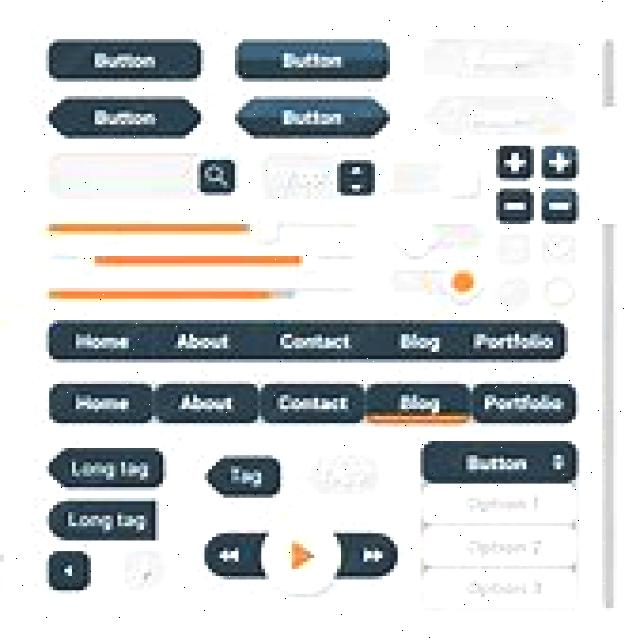button: (232, 35, 391, 83), (44, 96, 207, 140), (234, 96, 394, 140), (422, 36, 574, 81), (46, 38, 203, 80), (420, 95, 578, 136), (263, 518, 343, 596), (44, 442, 167, 491), (44, 496, 164, 539), (258, 379, 366, 425), (470, 379, 578, 425), (364, 379, 471, 425), (153, 379, 260, 423), (45, 381, 154, 424), (202, 447, 283, 501), (332, 525, 399, 585), (304, 451, 383, 498), (205, 529, 270, 584), (125, 540, 173, 586), (47, 548, 92, 592), (538, 184, 582, 227), (493, 140, 537, 182), (493, 186, 535, 226), (537, 144, 581, 181), (201, 154, 237, 199)
checkbox: (495, 230, 535, 267), (539, 230, 578, 266)
dropdownMenu: (418, 435, 582, 613)
input: (42, 152, 196, 200)
menu: (47, 316, 570, 362)
menuItem: (458, 572, 549, 605), (455, 486, 545, 518), (463, 529, 546, 560)
radio: (536, 272, 579, 309), (492, 273, 532, 309)
slider: (597, 32, 623, 613), (44, 215, 360, 244), (41, 248, 360, 276), (44, 282, 366, 308)
switch: (389, 156, 483, 202), (392, 215, 484, 260), (385, 267, 485, 305)
upDown: (262, 157, 379, 200)
